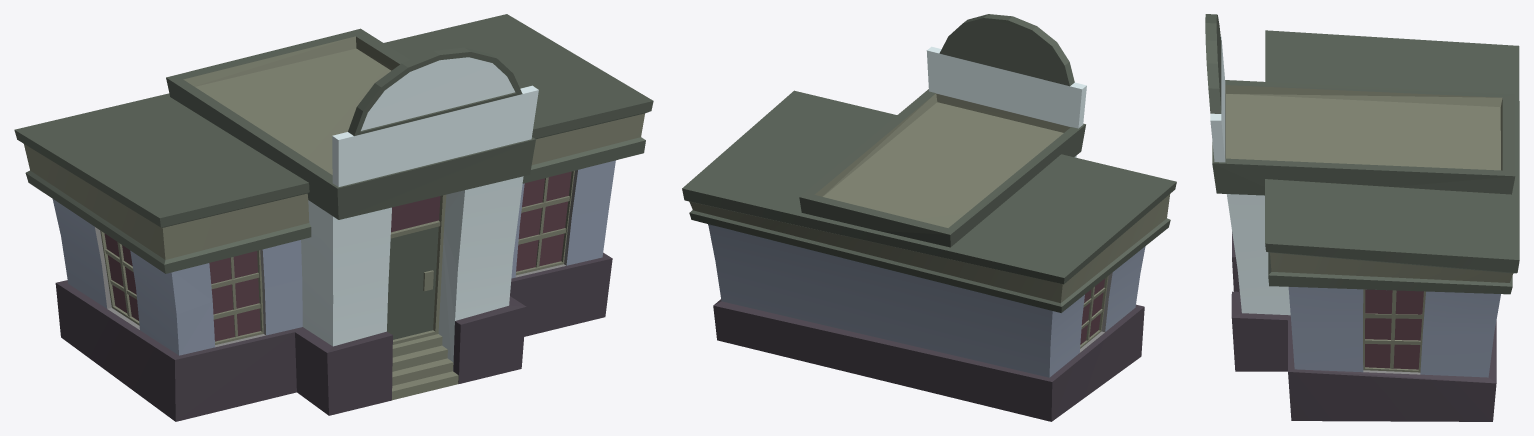
Rendered from Prima.FBX.
3 renders of one model, left to right at view 1: azimuth 30°, elevation 25°; view 2: azimuth 150°, elevation 25°; view 3: azimuth 270°, elevation 25°, orthographic. The views are drawn at different scales.
Visible parts, largest first — view 1: Object02; view 2: Object02; view 3: Object02.
Boxes of the visible parts, left/top/right/bottom form: Object02: left=14, top=14, right=653, bottom=421; Object02: left=682, top=14, right=1176, bottom=421; Object02: left=1205, top=14, right=1519, bottom=421.
Size of the model in its own units: 534 by 363 by 337.
